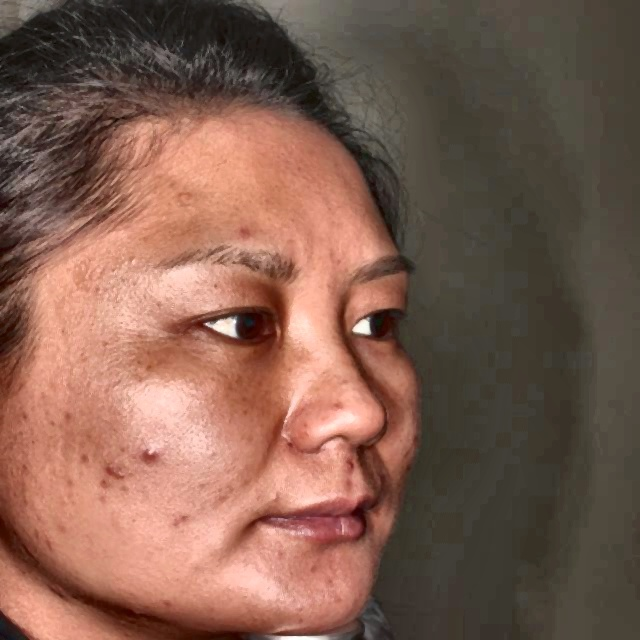comedone: (94, 450, 129, 486), (132, 432, 164, 469)
